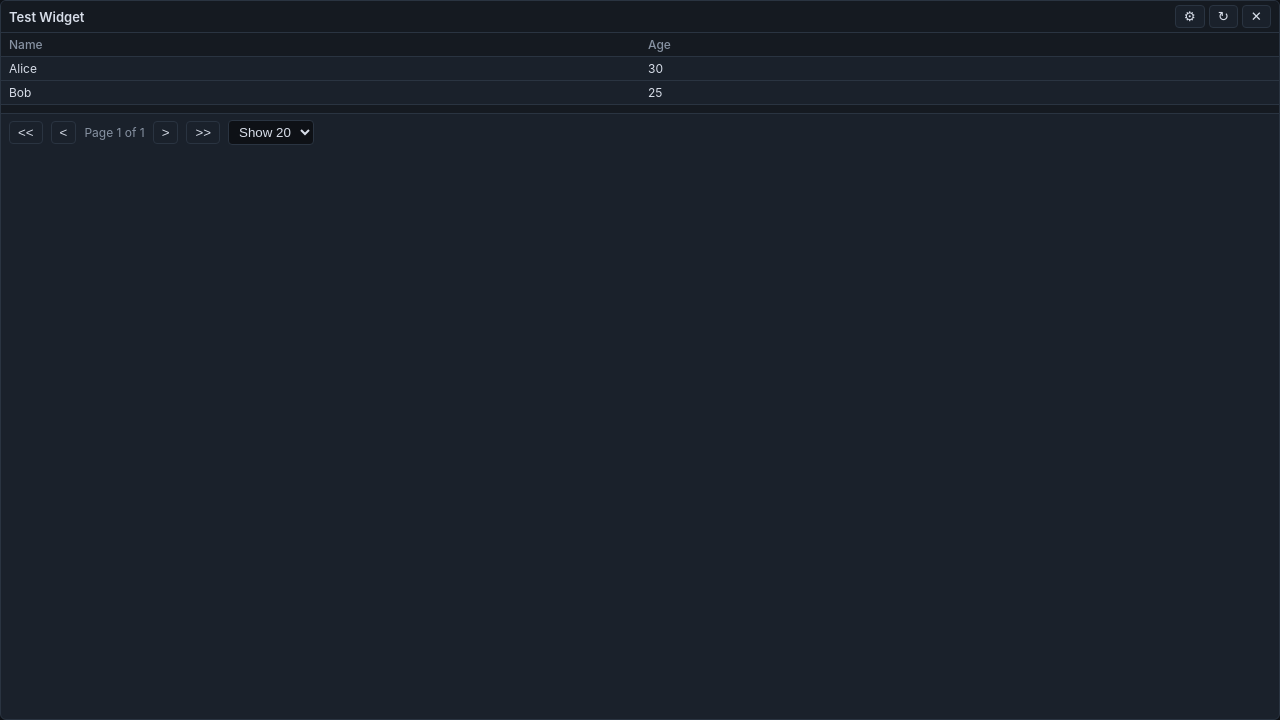
Test: WidgetCard › per-card parameters › opens an editor seeded with the card's current values
Click the button named "Edit parameters".
click(1190, 16)  # box x1=1175 y1=5 x2=1205 y2=28
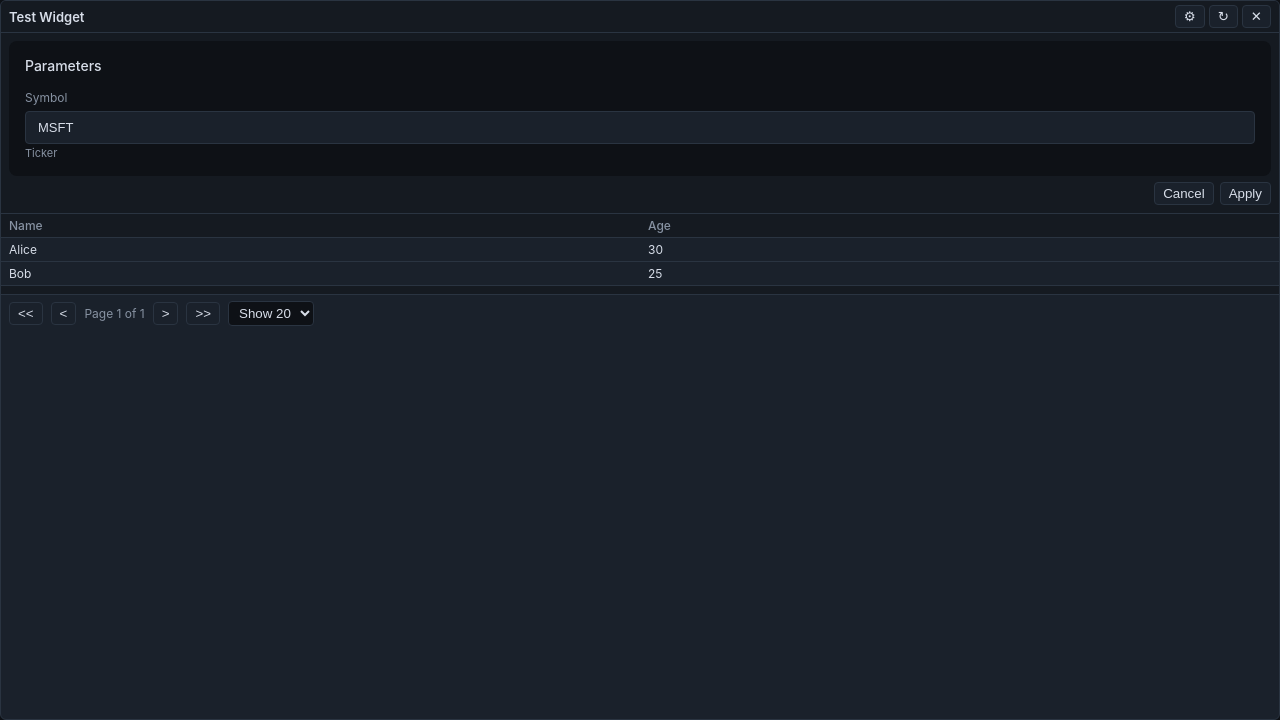
Expected: the field labelled "Symbol" holds "MSFT", x1=25 y1=111 x2=1255 y2=144
